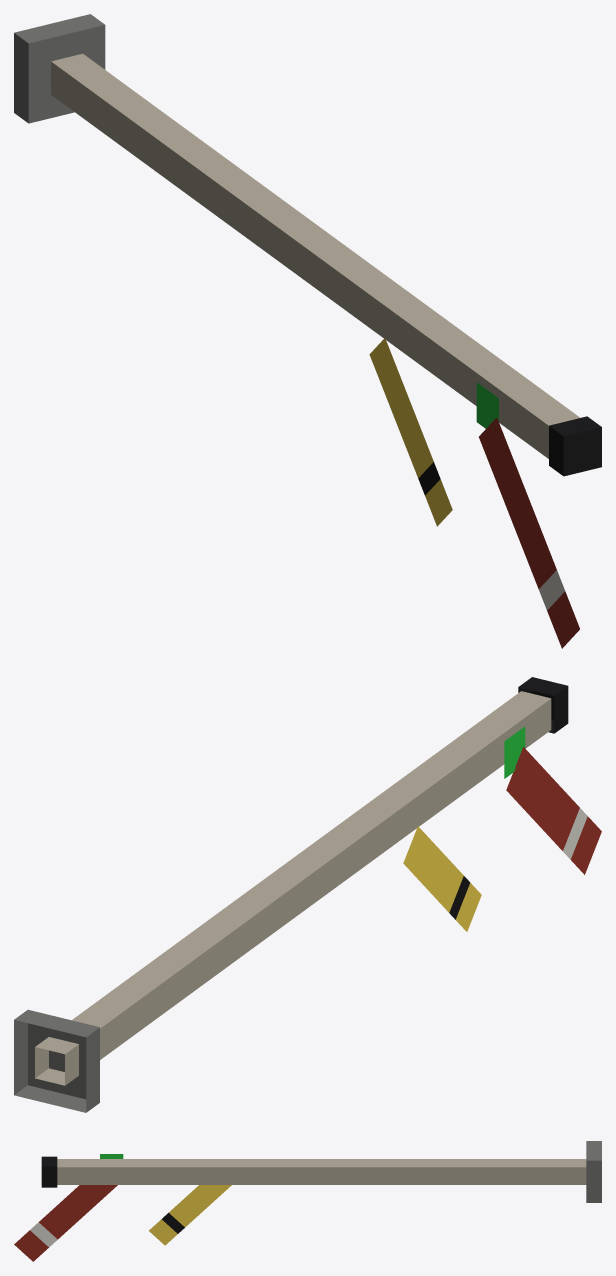
File: green.glb
3 renders of one model, top to bottom at view 1: azimuth 30°, elevation 25°; view 2: azimuth 150°, elevation 25°; view 3: azimuth 270°, elevation 25°, orthographic. The views are drawn at different scales.
Visible parts, largest first — view 1: signal_semaphore_path_green; view 2: signal_semaphore_path_green; view 3: signal_semaphore_path_green.
Part boxes in pixels (x1,y1,x2,y2): signal_semaphore_path_green: (14, 14, 601, 648); signal_semaphore_path_green: (14, 677, 601, 1112); signal_semaphore_path_green: (14, 1141, 601, 1261).
Bounding box in the file's own units: 1.2 × 3.36 × 15.11.
